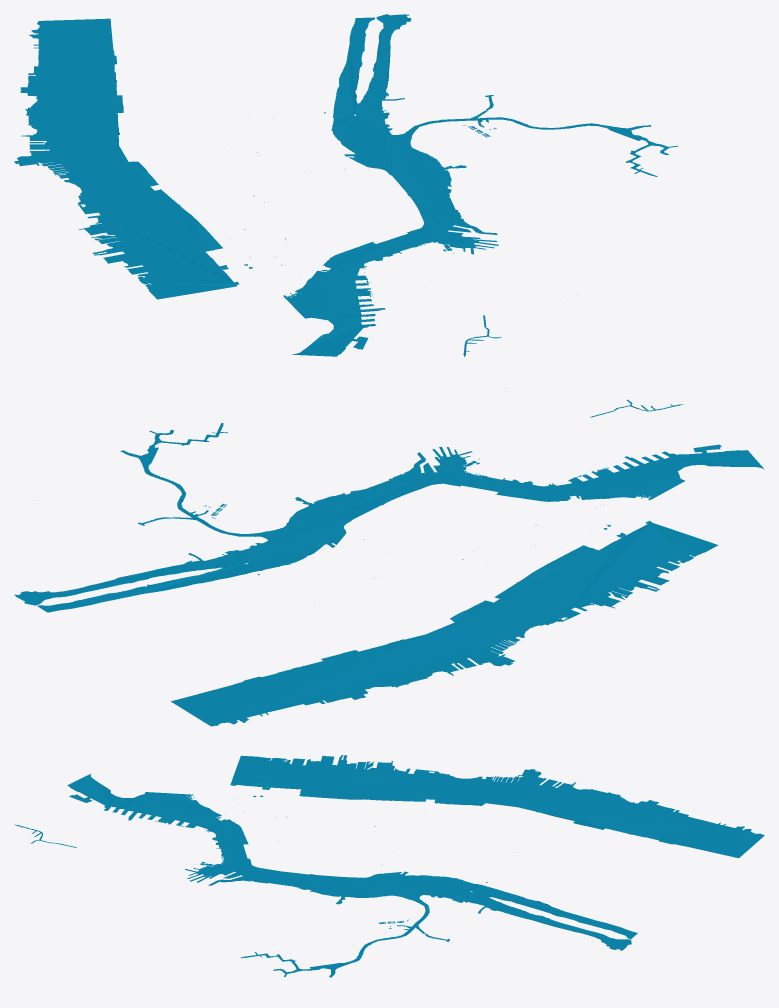
Rendered from water.glb.
3 renders of one model, top to bottom at view 1: azimuth 30°, elevation 25°; view 2: azimuth 150°, elevation 25°; view 3: azimuth 270°, elevation 25°, orthographic. The views are drawn at different scales.
Parts seen in each view (by area): view 1: water; view 2: water; view 3: water.
Part boxes in pixels (x1,y1,x2,y2): water: (14, 14, 677, 356); water: (14, 391, 764, 726); water: (14, 755, 764, 977).
Bounding box in the file's own units: 10427 × 144 × 13728.
